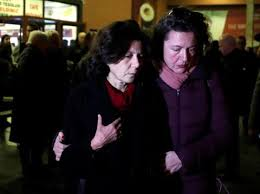middle_eastern_Female: (105, 38, 146, 88)
